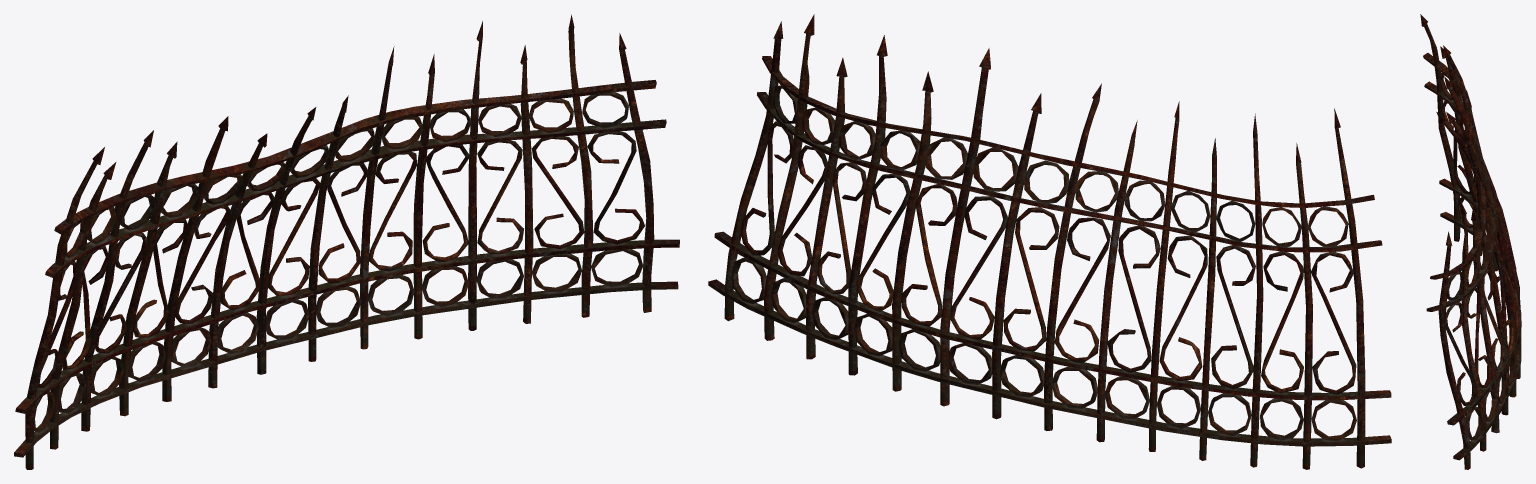
The model's file is SM_fence_15.fbx.
The picture shows the model from 3 angles, left to right: view 1: azimuth 30°, elevation 25°; view 2: azimuth 150°, elevation 25°; view 3: azimuth 270°, elevation 25°; orthographic projection. The views are drawn at different scales.
Parts seen in each view (by area): view 1: SM_fence_15; view 2: SM_fence_15; view 3: SM_fence_15.
Boxes of the visible parts, bbox=[...] form: SM_fence_15: bbox=[14, 14, 679, 469]; SM_fence_15: bbox=[708, 14, 1391, 469]; SM_fence_15: bbox=[1420, 14, 1521, 469].
Size of the model in its own units: 266 by 125 by 46.22.
